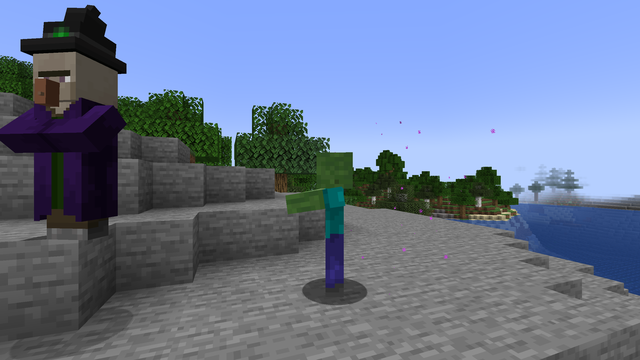sorcieres: (20, 37, 122, 246)
zombies: (308, 155, 361, 301)
